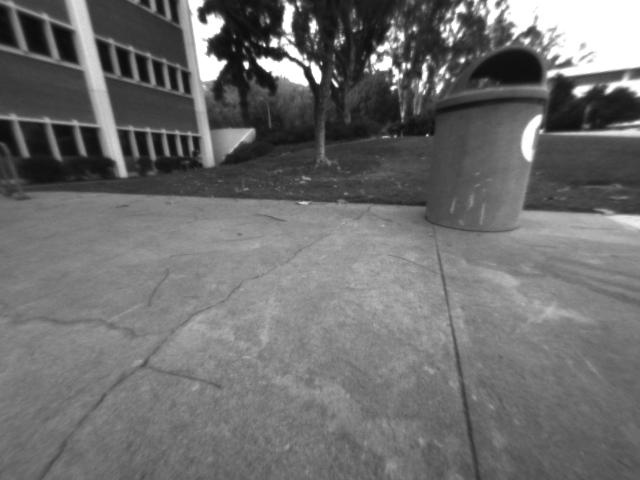trashcan: (415, 19, 556, 246)
